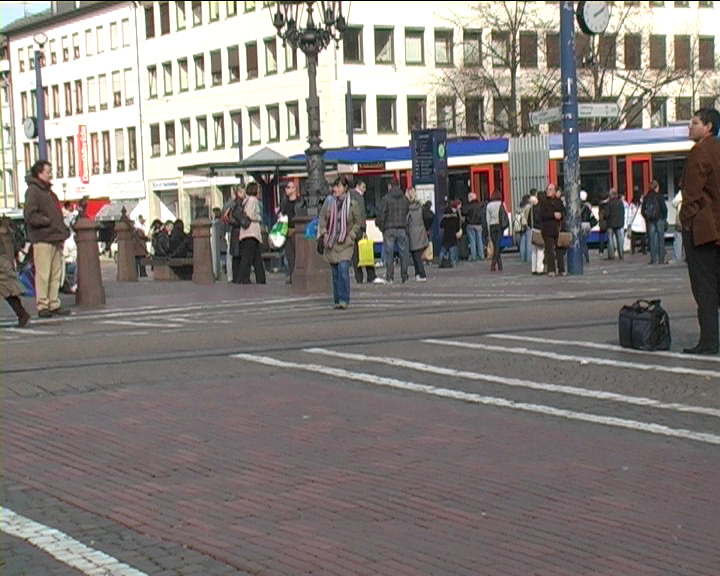deflection: (674, 100, 718, 191), (317, 180, 359, 230)
